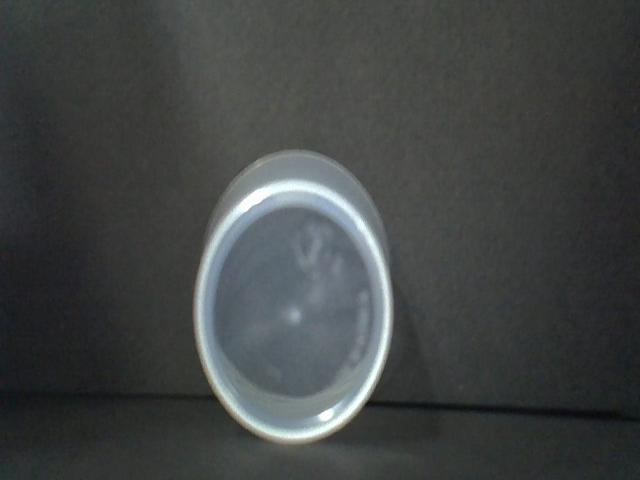cup: (184, 144, 410, 452)
